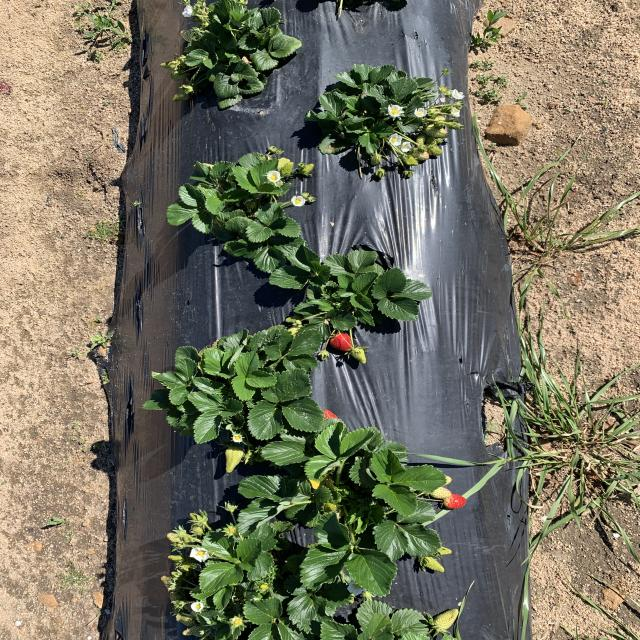unripe: (328, 332, 358, 356), (442, 494, 468, 511)
